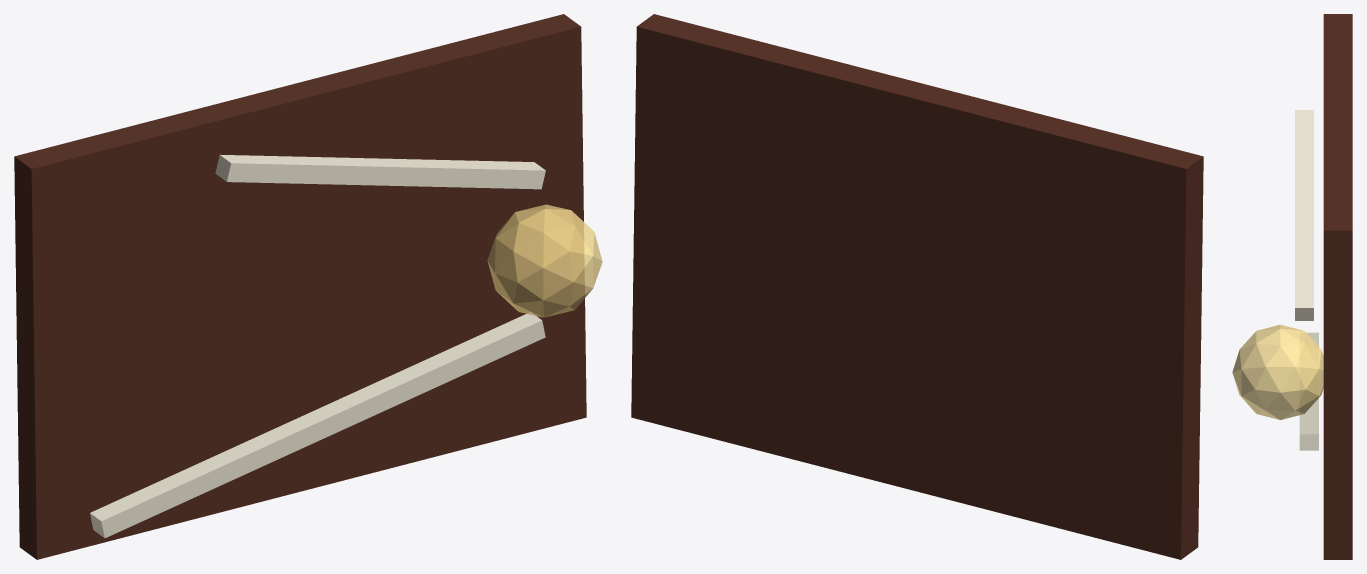
Rendered from 02_world_prop_polish.glb.
3 views of the same model, side by side, from view 1: azimuth 30°, elevation 25°; view 2: azimuth 150°, elevation 25°; view 3: azimuth 270°, elevation 25° (orthographic). The views are drawn at different scales.
Parts seen in each view (by area): view 1: object_overlay_plate, edge_wear_a, glow_socket, edge_wear_b; view 2: object_overlay_plate; view 3: object_overlay_plate, glow_socket, edge_wear_b, edge_wear_a.
Part boxes in pixels (x1,y1,x2,y2): object_overlay_plate: (14, 14, 586, 559); edge_wear_a: (90, 312, 545, 538); glow_socket: (487, 204, 602, 317); edge_wear_b: (215, 154, 545, 189); object_overlay_plate: (631, 14, 1203, 559); object_overlay_plate: (1323, 14, 1352, 559); glow_socket: (1232, 324, 1323, 419); edge_wear_b: (1295, 110, 1313, 320); edge_wear_a: (1299, 332, 1318, 450).
Bounding box in the file's own units: 1.11 × 0.7658 × 0.25.
